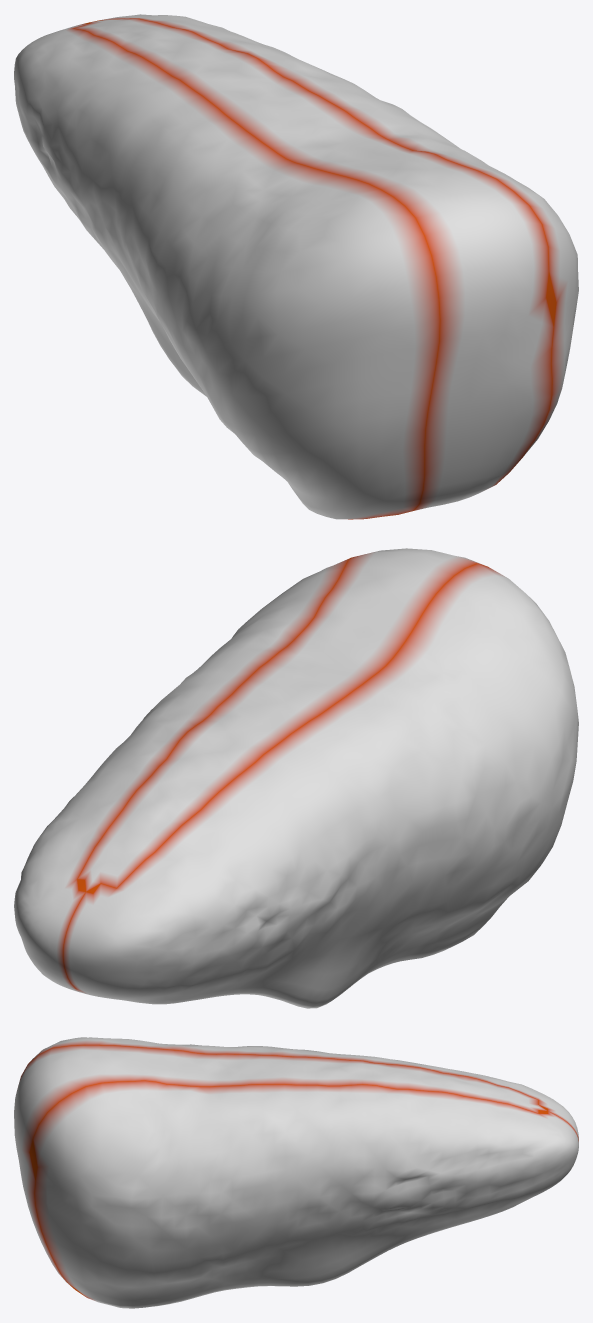
File: SKM_GROSSE_QUEUE_DE_BEBE.fbx
The picture shows the model from 3 angles, top to bottom: view 1: azimuth 30°, elevation 25°; view 2: azimuth 150°, elevation 25°; view 3: azimuth 270°, elevation 25°; orthographic projection. The views are drawn at different scales.
Parts seen in each view (by area): view 1: tail_low; view 2: tail_low; view 3: tail_low.
Part boxes in pixels (x1=…): tail_low: x1=14, y1=14, x2=578, y2=519; tail_low: x1=14, y1=548, x2=578, y2=1008; tail_low: x1=14, y1=1037, x2=578, y2=1308.
Bounding box in the file's own units: 289 × 272 × 604.
